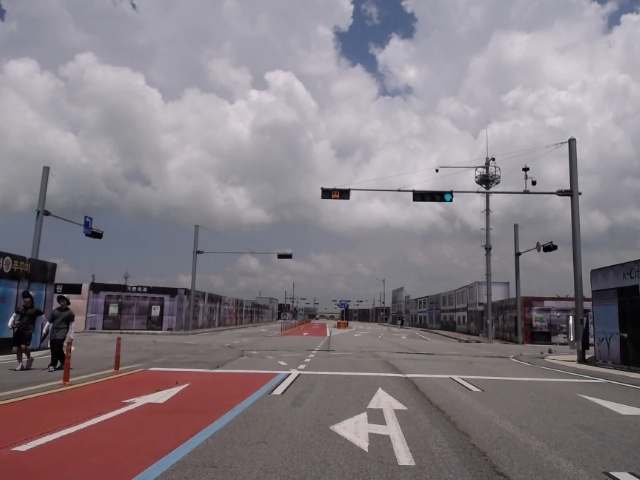straight_green_4: (412, 189, 453, 202)
